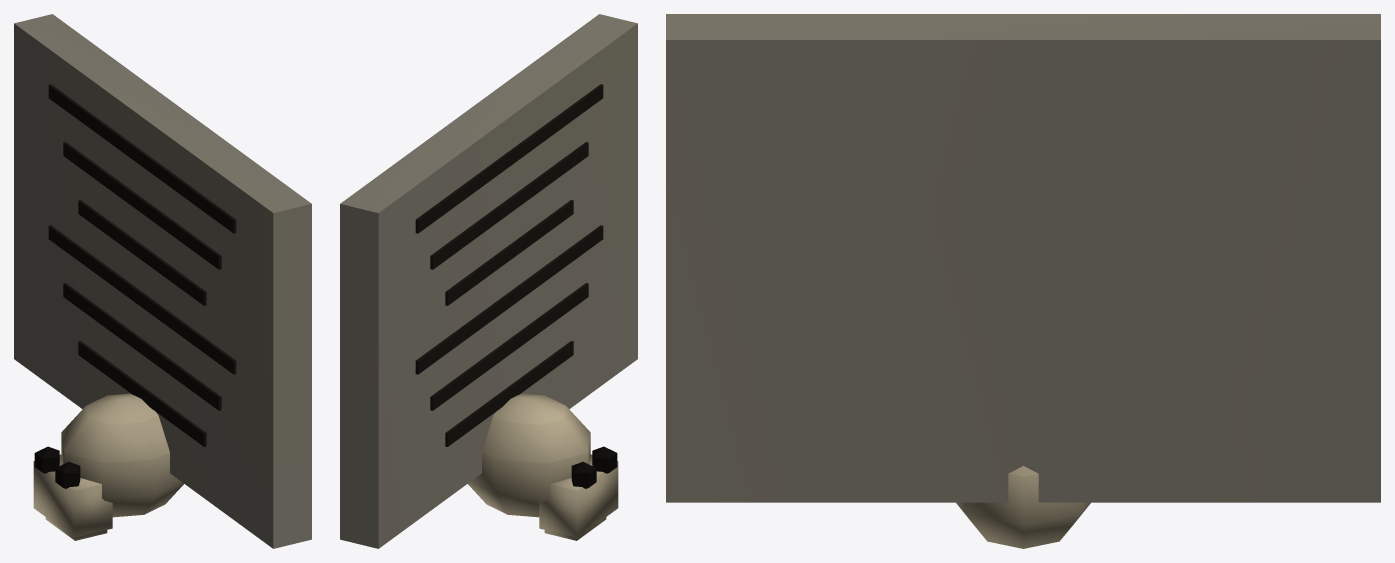
The model's file is clue-cat-names.glb.
3 renders of one model, left to right at view 1: azimuth 30°, elevation 25°; view 2: azimuth 150°, elevation 25°; view 3: azimuth 270°, elevation 25°, orthographic. The views are drawn at different scales.
Visible parts, largest first — view 1: clue-cat-names-stone, clue-cat-names-dark, clue-cat-names-bone; view 2: clue-cat-names-stone, clue-cat-names-dark, clue-cat-names-bone; view 3: clue-cat-names-stone, clue-cat-names-bone.
Part boxes in pixels (x1,y1,x2,y2): clue-cat-names-stone: (14,14,311,548); clue-cat-names-dark: (34,84,236,488); clue-cat-names-bone: (33,393,183,540); clue-cat-names-stone: (340,14,637,548); clue-cat-names-dark: (415,84,617,488); clue-cat-names-bone: (468,393,618,540); clue-cat-names-stone: (666,14,1380,502); clue-cat-names-bone: (956,466,1090,548).
Bounding box in the file's own units: 0.2149 × 0.583 × 0.7.
